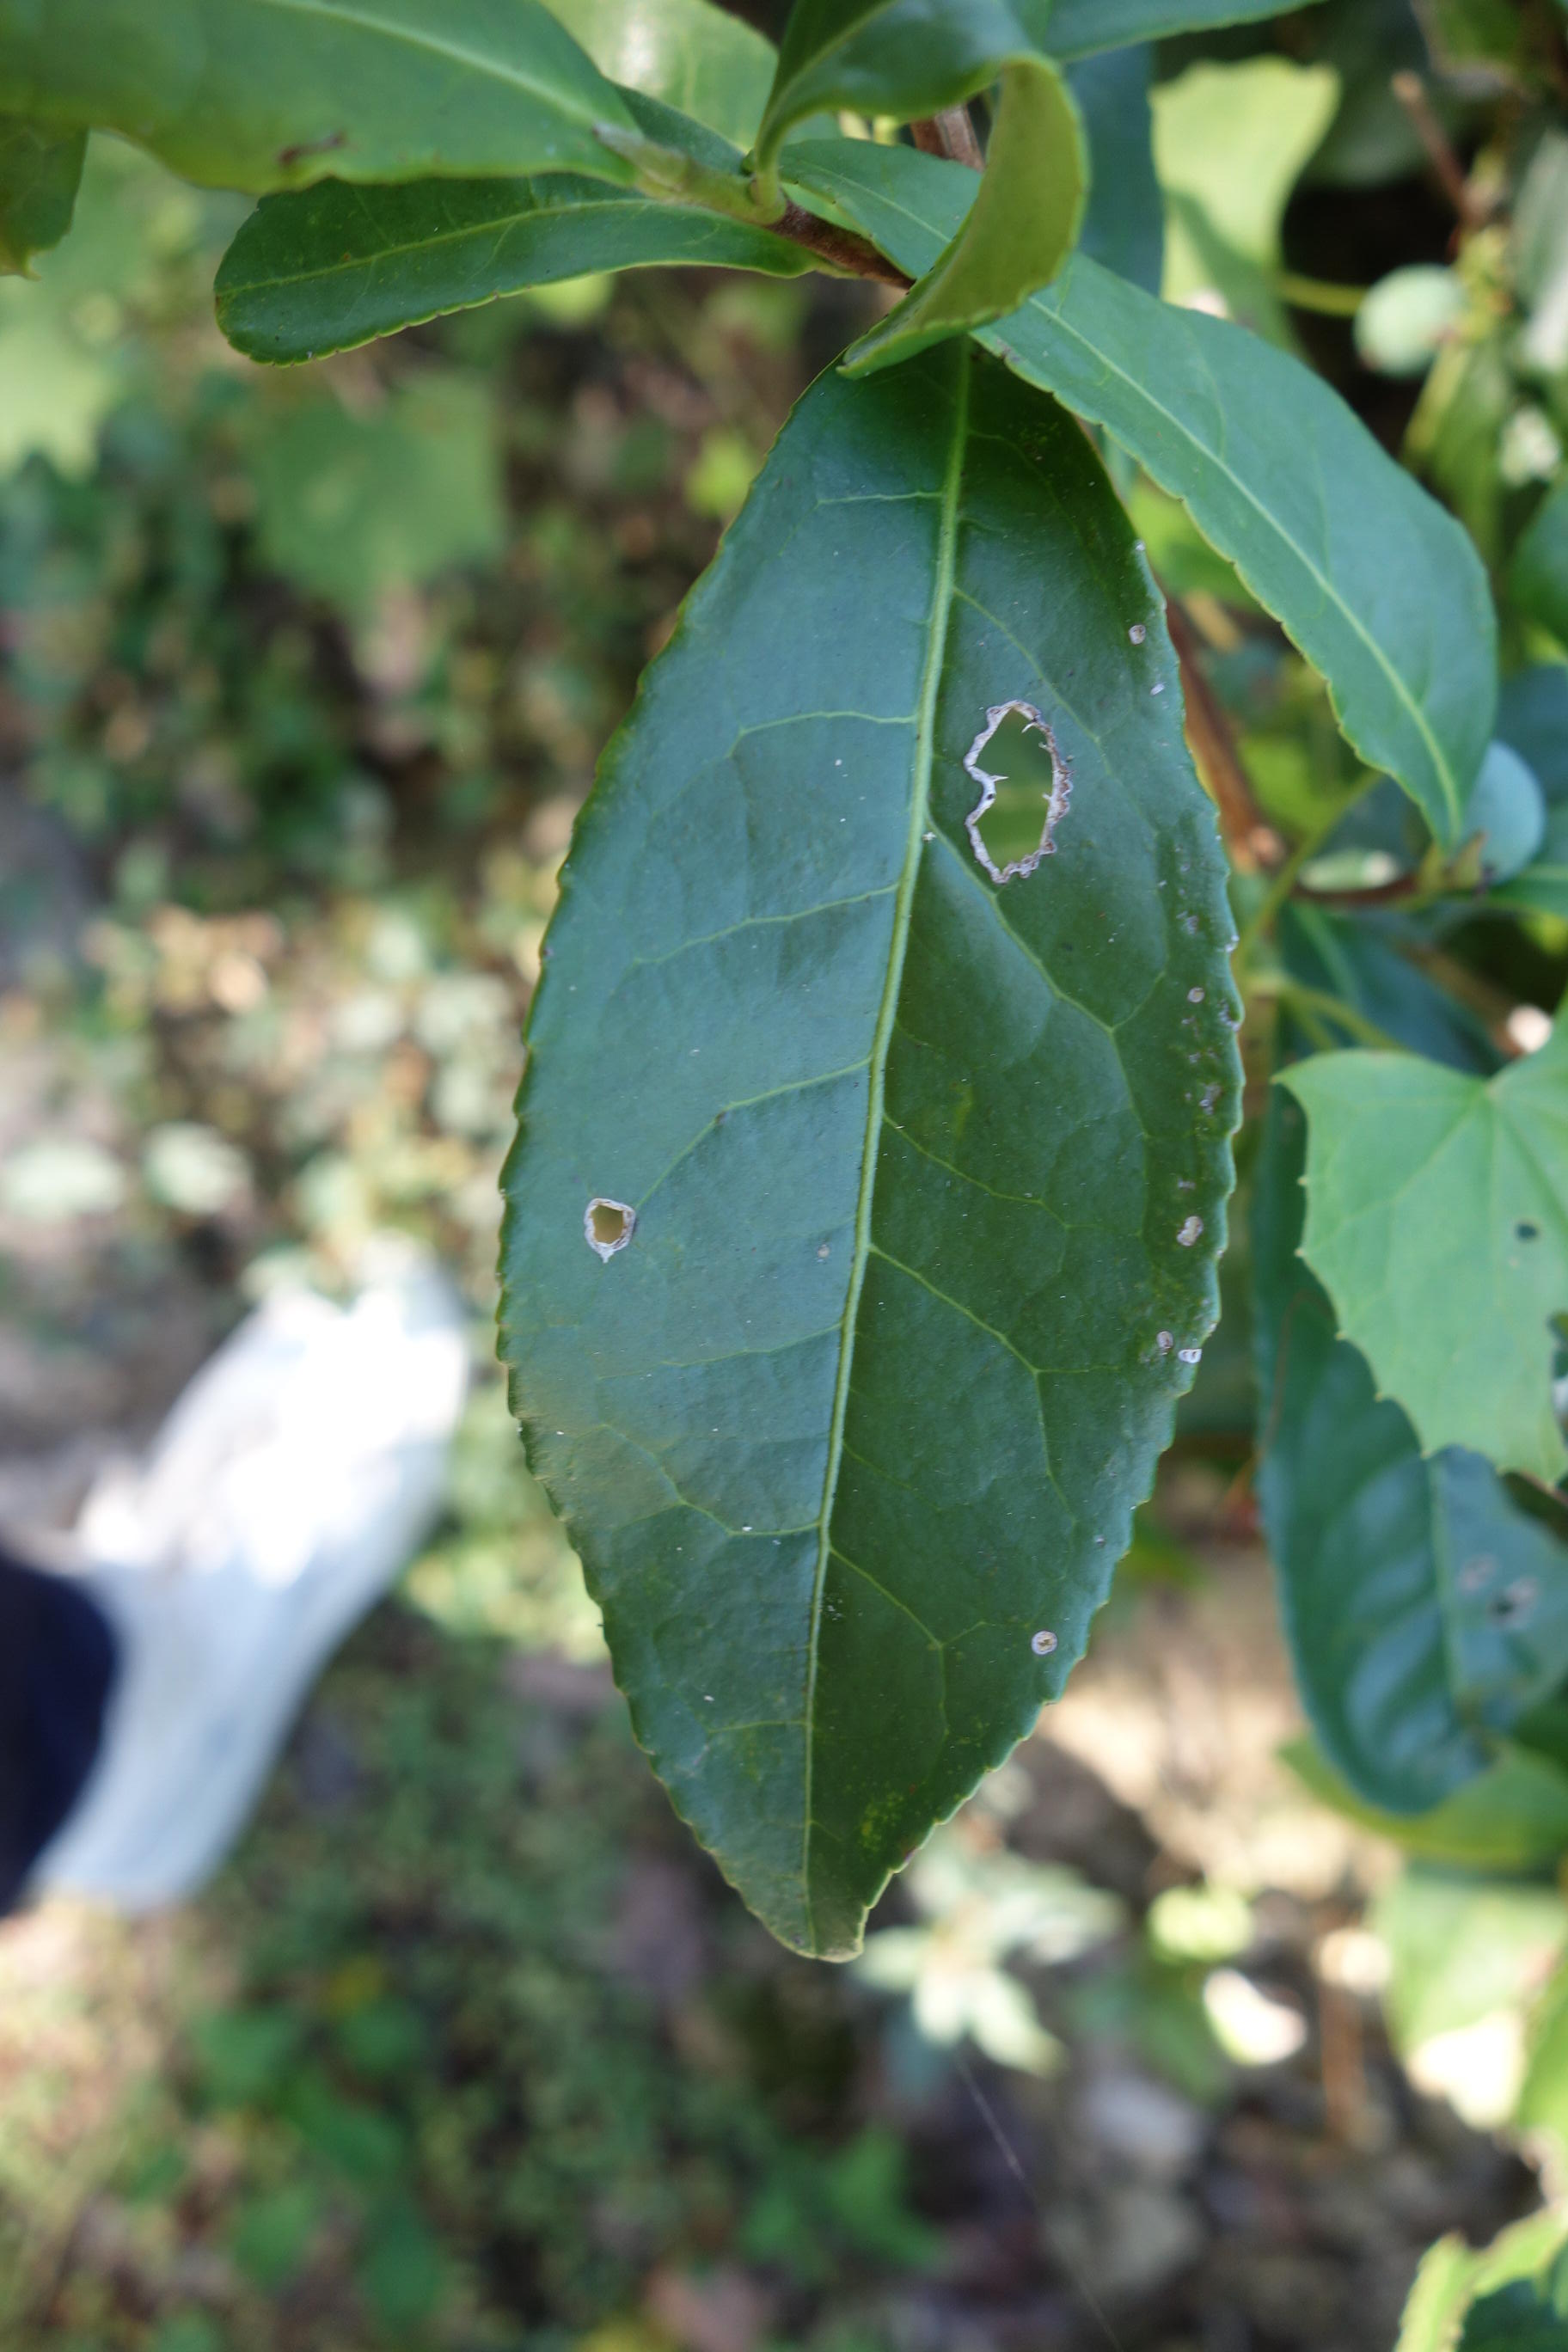chihuo_high: (485, 348, 1253, 1963)
